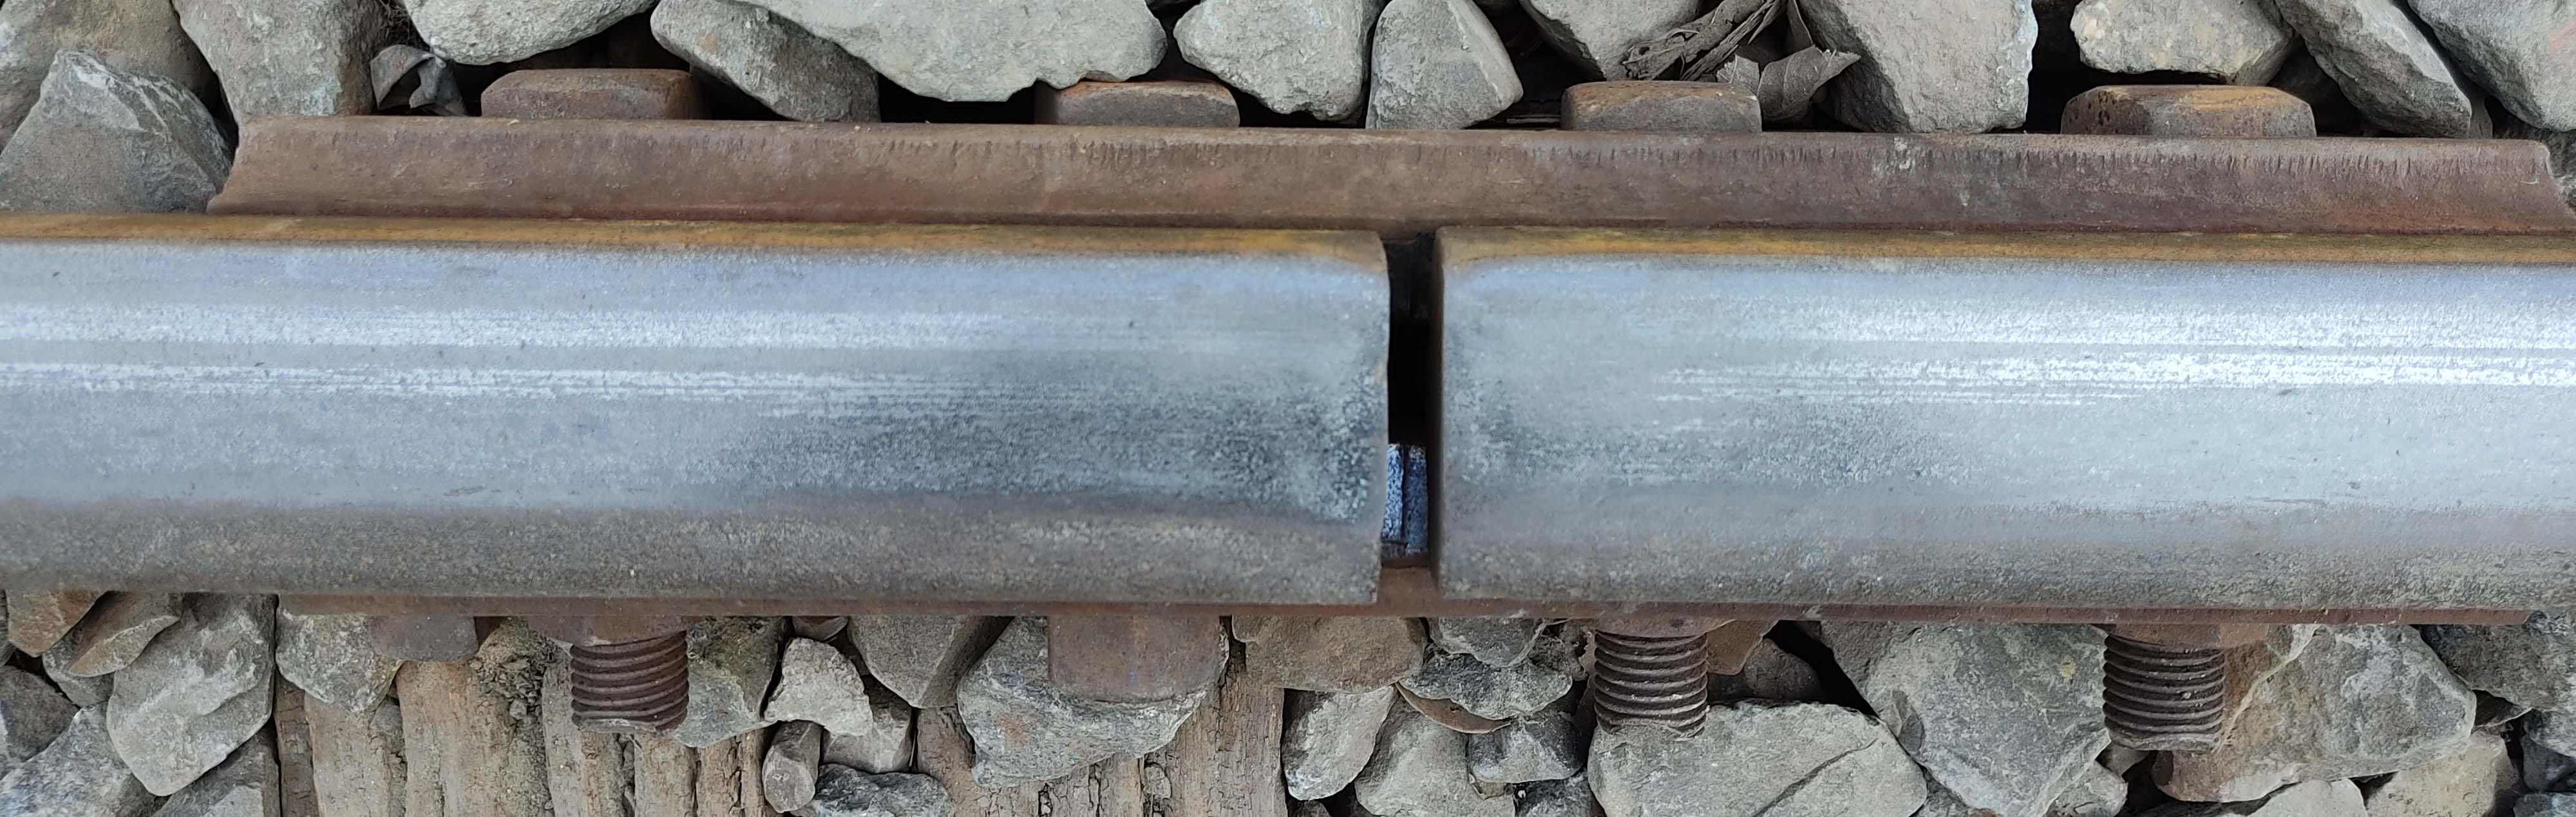error2: (1329, 201, 1521, 664)
